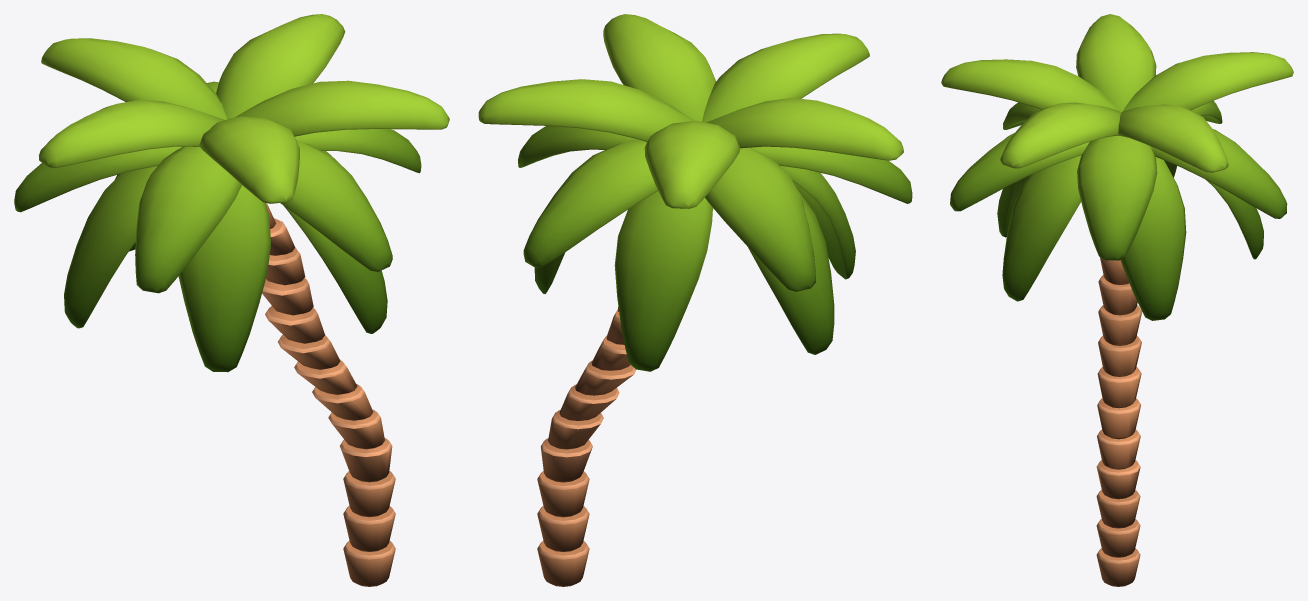
Rendered from lpb_tree_1_a.fbx.
3 views of the same model, side by side, from view 1: azimuth 30°, elevation 25°; view 2: azimuth 150°, elevation 25°; view 3: azimuth 270°, elevation 25° (orthographic). The views are drawn at different scales.
Visible parts, largest first — view 1: ap_tree_1; view 2: ap_tree_1; view 3: ap_tree_1.
Boxes of the visible parts, x1,y1,x2,y2 form: ap_tree_1: [14, 14, 449, 586]; ap_tree_1: [478, 14, 912, 586]; ap_tree_1: [941, 14, 1293, 586].
Size of the model in its own units: 404 by 545 by 390.
